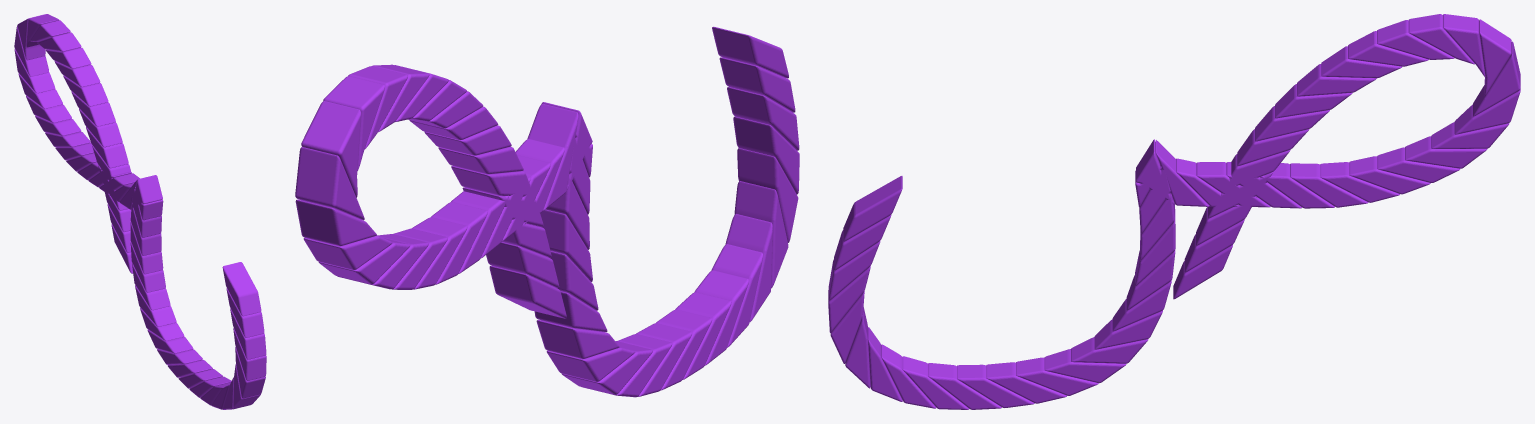
File: shad.fbx
The picture shows the model from 3 angles, left to right: view 1: azimuth 30°, elevation 25°; view 2: azimuth 150°, elevation 25°; view 3: azimuth 270°, elevation 25°; orthographic projection. The views are drawn at different scales.
Parts seen in each view (by area): view 1: Cube; view 2: Cube; view 3: Cube.
Part boxes in pixels (x1,y1,x2,y2): Cube: (14, 14, 266, 409); Cube: (295, 26, 799, 397); Cube: (828, 14, 1520, 409).
Size of the model in its own units: 60 by 724 by 1187.
